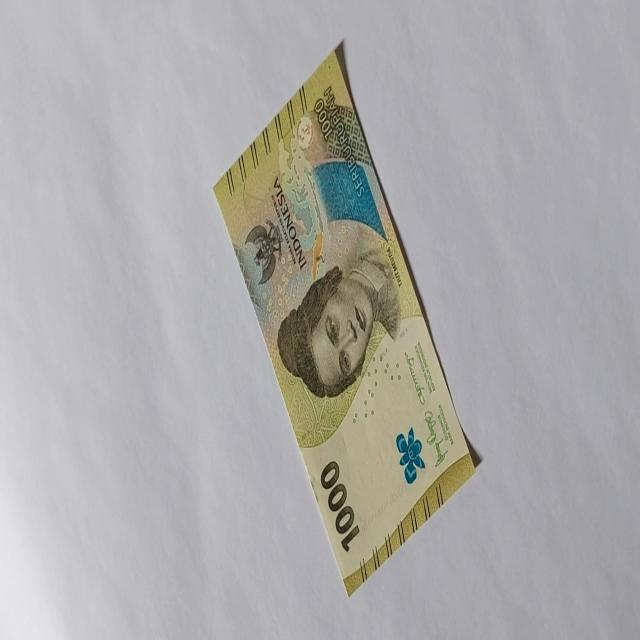seribu rupiah kertas: (212, 40, 478, 598)
